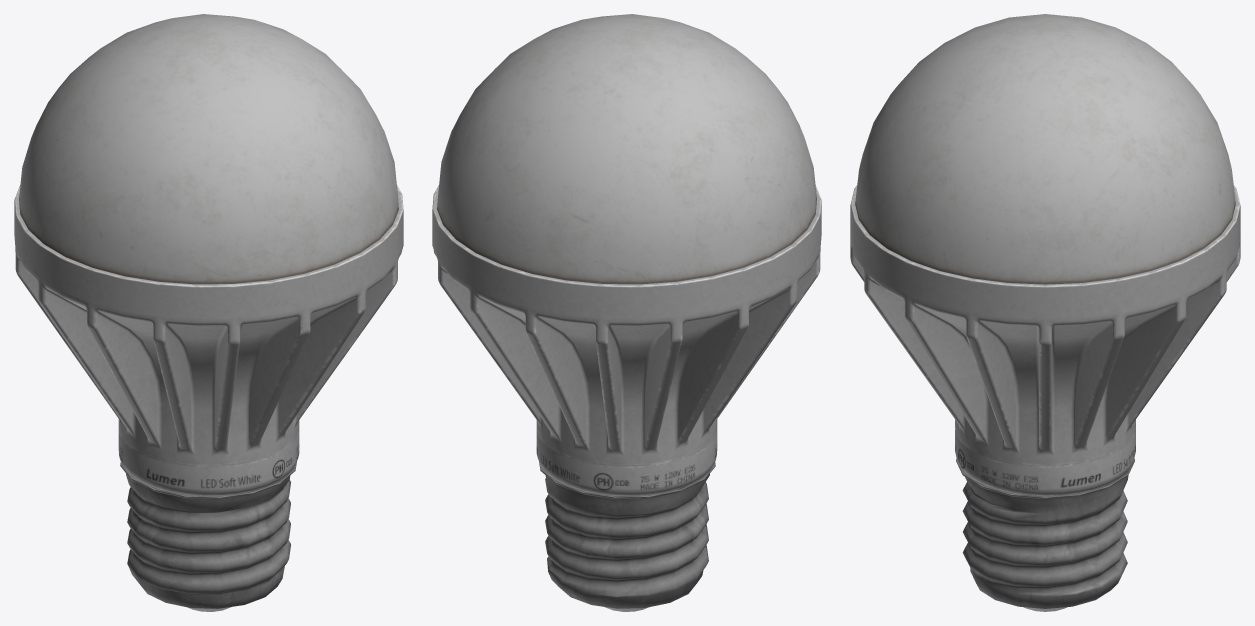
File: lightbulb_led_1k.gltf
3 views of the same model, side by side, from view 1: azimuth 30°, elevation 25°; view 2: azimuth 150°, elevation 25°; view 3: azimuth 270°, elevation 25° (orthographic).
Parts seen in each view (by area): view 1: lightbulb_led; view 2: lightbulb_led; view 3: lightbulb_led.
Boxes of the visible parts, bbox=[...] form: lightbulb_led: bbox=[14, 14, 403, 611]; lightbulb_led: bbox=[432, 14, 821, 611]; lightbulb_led: bbox=[850, 14, 1240, 611].
Size of the model in its own units: 0.0614 by 0.1003 by 0.0614.
1 material, 1 textured.
